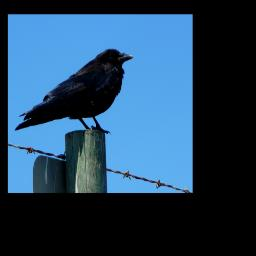Crow: (13, 48, 135, 135)
